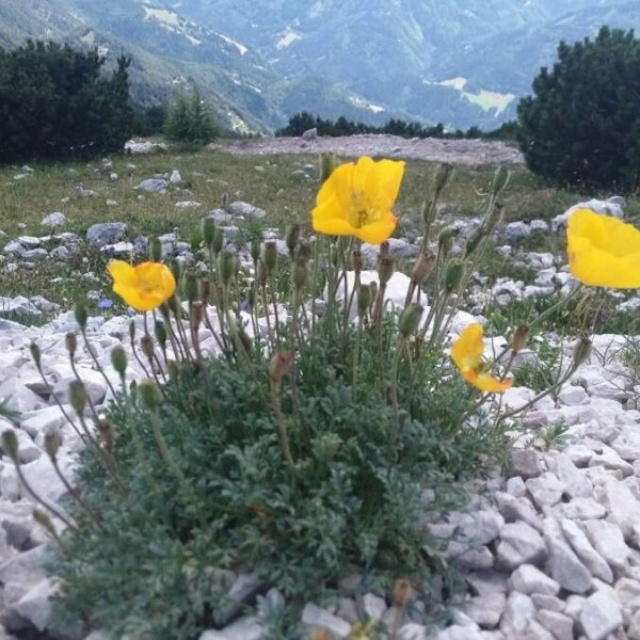obstacle: (76, 147, 544, 533)
